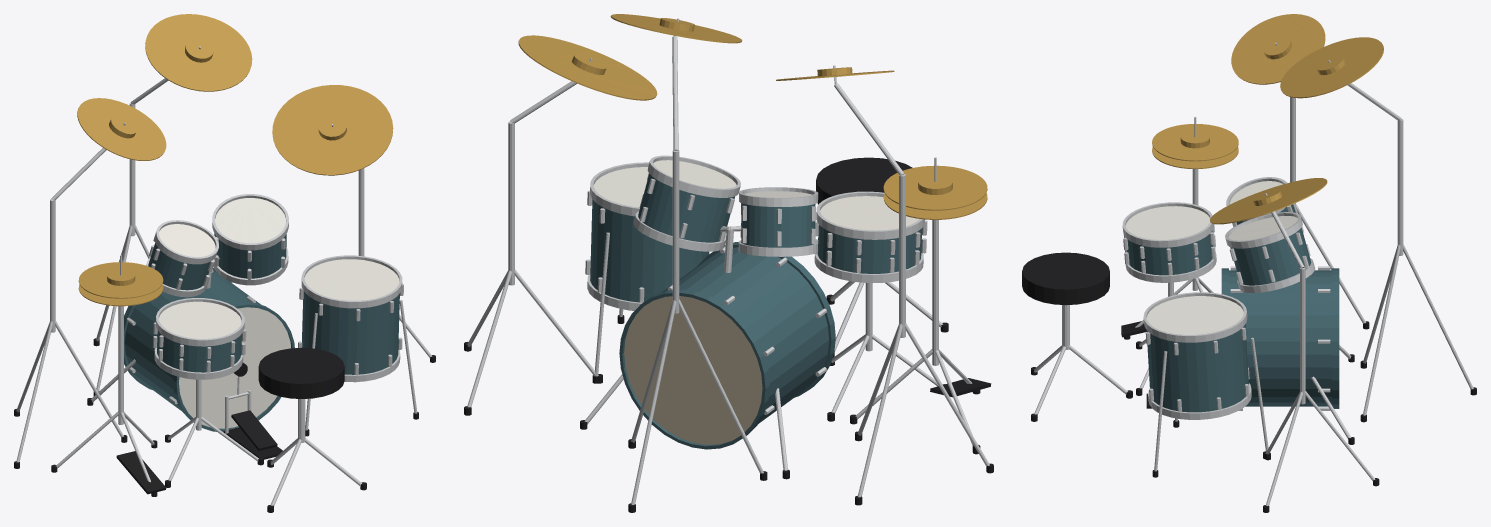
The model's file is perkusja.obj.
The picture shows the model from 3 angles, left to right: view 1: azimuth 30°, elevation 25°; view 2: azimuth 150°, elevation 25°; view 3: azimuth 270°, elevation 25°; orthographic projection. The views are drawn at different scales.
Visible parts, largest first — view 1: Floor_tom_16x14", Stopa_22x18", Ride_20", Werbel_14x6,5", Crash_18", Tom_12x8", Stołek_perkusisty, Tom_10x7", Crash_16", Hi-hat_14"_–_górny, Stopa_(pedał), Statyw_crash_16" (+7 smaller); view 2: Stopa_22x18", Floor_tom_16x14", Werbel_14x6,5", Tom_12x8", Tom_10x7", Ride_20", Statyw_crash_18", Hi-hat_14"_–_górny, Stołek_perkusisty, Statyw_crash_16", Statyw_ride_20", Statyw_hi-hat (+8 smaller); view 3: Floor_tom_16x14", Stopa_22x18", Werbel_14x6,5", Stołek_perkusisty, Tom_12x8", Crash_16", Crash_18", Statyw_crash_18", Hi-hat_14"_–_górny, Ride_20", Statyw_ride_20", Nogi_floor_toma (+5 smaller).
Boxes of the visible parts, left/top/right/bottom form: Floor_tom_16x14": left=298, top=255, right=403, bottom=382; Stopa_22x18": left=124, top=268, right=294, bottom=432; Ride_20": left=272, top=85, right=393, bottom=175; Werbel_14x6,5": left=152, top=298, right=246, bottom=379; Crash_18": left=145, top=14, right=252, bottom=91; Tom_12x8": left=212, top=194, right=288, bottom=285; Stołek_perkusisty: left=258, top=347, right=366, bottom=512; Tom_10x7": left=146, top=220, right=218, bottom=297; Crash_16": left=77, top=98, right=166, bottom=160; Hi-hat_14"_–_górny: left=78, top=262, right=163, bottom=298; Stopa_(pedał): left=87, top=256, right=282, bottom=459; Statyw_crash_16": left=14, top=199, right=127, bottom=468; Stopa_22x18": left=619, top=242, right=835, bottom=449; Floor_tom_16x14": left=585, top=162, right=709, bottom=310; Werbel_14x6,5": left=814, top=191, right=927, bottom=283; Tom_12x8": left=633, top=155, right=740, bottom=251; Tom_10x7": left=738, top=187, right=818, bottom=256; Ride_20": left=518, top=35, right=657, bottom=100; Statyw_crash_18": left=628, top=150, right=767, bottom=512; Hi-hat_14"_–_górny: left=883, top=165, right=987, bottom=210; Stołek_perkusisty: left=816, top=157, right=948, bottom=356; Statyw_crash_16": left=855, top=174, right=993, bottom=505; Statyw_ride_20": left=464, top=121, right=602, bottom=415; Statyw_hi-hat: left=850, top=220, right=980, bottom=454; Floor_tom_16x14": left=1143, top=292, right=1251, bottom=419; Stopa_22x18": left=1221, top=266, right=1339, bottom=410; Werbel_14x6,5": left=1122, top=202, right=1216, bottom=282; Stołek_perkusisty: left=1022, top=252, right=1132, bottom=421; Tom_12x8": left=1225, top=212, right=1315, bottom=293; Crash_16": left=1231, top=14, right=1325, bottom=84; Crash_18": left=1280, top=37, right=1383, bottom=98; Statyw_crash_18": left=1360, top=119, right=1476, bottom=422; Hi-hat_14"_–_górny: left=1152, top=124, right=1238, bottom=161; Ride_20": left=1210, top=178, right=1327, bottom=224; Statyw_ride_20": left=1263, top=267, right=1379, bottom=512; Nogi_floor_toma: left=1152, top=337, right=1270, bottom=477.
Size of the model in its own units: 2.06 by 1.64 by 1.86.
